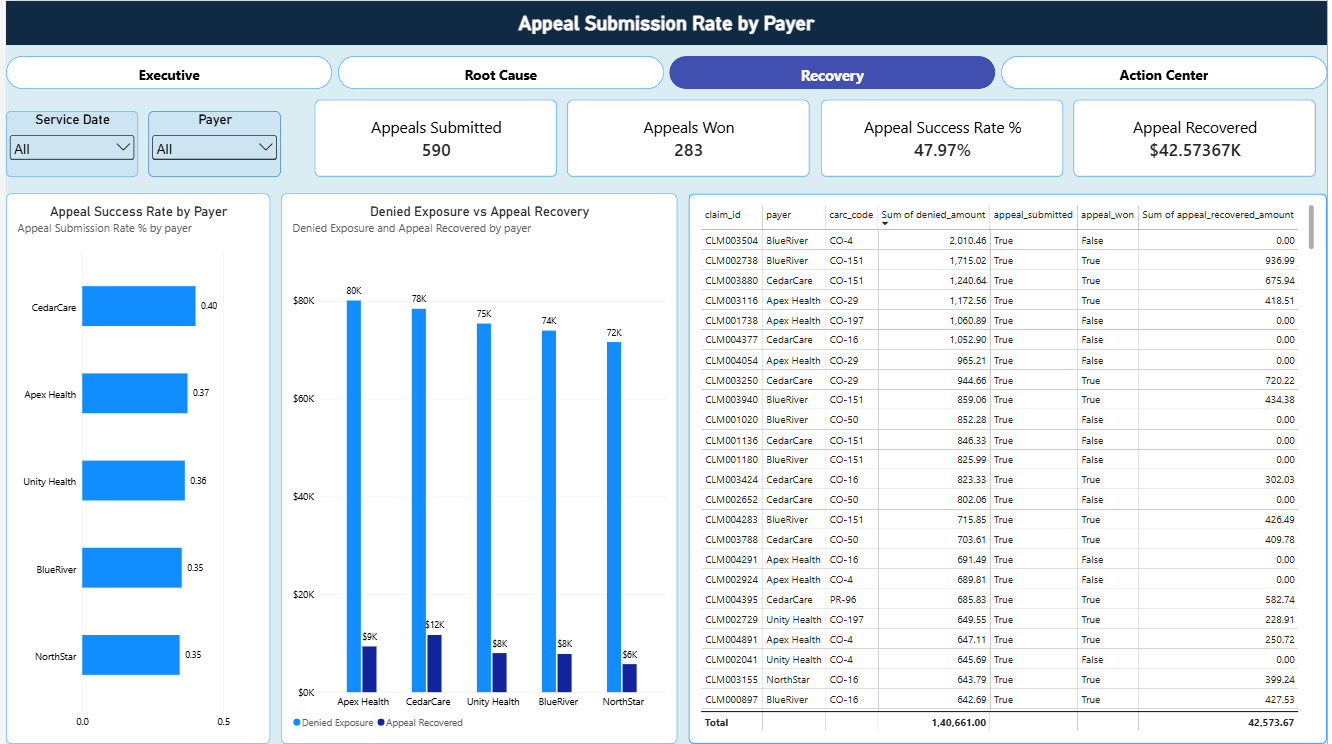

The dashboard page shown, as its layout file describes it:
{"tool":"powerbi","page":{"name":"Recovery","canvas":[1920,1080],"ordinal":2},"visuals":[{"type":"cardVisual","title":"Appeals Submitted","fields":{"Data":["claims_processed.Appeals Submitted"]},"box":[448,144,352,112],"z":0},{"type":"cardVisual","title":"Appeals Submitted","fields":{"Data":["claims_processed.Appeals Won"]},"box":[816,144,352,112],"z":1000},{"type":"cardVisual","title":"Appeals Submitted","fields":{"Data":["claims_processed.Appeal Success Rate %"]},"box":[1184,144,352,112],"z":2000},{"type":"cardVisual","title":"Appeals Submitted","fields":{"Data":["claims_processed.Appeal Recovered"]},"box":[1552,144,352,112],"z":3000},{"type":"clusteredBarChart","title":"Appeal Success Rate by Payer","fields":{"Category":["claims_processed.payer"],"Y":["claims_processed.Appeal Submission Rate %"]},"box":[0,280,384,800],"z":4000},{"type":"clusteredColumnChart","title":"Denied Exposure vs Appeal Recovery","fields":{"Category":["claims_processed.payer"],"Y":["claims_processed.Denied Exposure","claims_processed.Appeal Recovered"]},"box":[400,280,576,800],"z":5000},{"type":"tableEx","fields":{"Values":["claims_processed.claim_id","claims_processed.payer","claims_processed.carc_code","Sum(claims_processed.denied_amount)","claims_processed.appeal_submitted","claims_processed.appeal_won","Sum(claims_processed.appeal_recovered_amount)"]},"box":[992,280,928,800],"z":6000},{"type":"textbox","title":"Appeal Submission Rate by Payer","box":[0,0,1920,64],"z":7000},{"type":"pageNavigator","box":[0,80,1920,48],"z":8000},{"type":"slicer","title":"Service Date","fields":{"Values":["claims_processed.Month Label"]},"box":[0,160,192,96],"z":9000},{"type":"slicer","title":"Payer","fields":{"Values":["claims_processed.payer"]},"box":[208,160,192,96],"z":10000}]}

Visuals, with their boxes in screenshot pixels (x1, y1, x2, y2), scaled from the page's 1920x1080 canvas onto the 1332x744 screenshot:
"Appeals Submitted" cardVisual: 311/99/555/176
"Appeals Submitted" cardVisual: 566/99/810/176
"Appeals Submitted" cardVisual: 821/99/1066/176
"Appeals Submitted" cardVisual: 1077/99/1321/176
"Appeal Success Rate by Payer" clusteredBarChart: 0/193/266/743
"Denied Exposure vs Appeal Recovery" clusteredColumnChart: 278/193/677/743
tableEx - claims_processed.claim_id x claims_processed.payer: 688/193/1331/743
"Appeal Submission Rate by Payer" textbox: 0/0/1331/44
pageNavigator: 0/55/1331/88
"Service Date" slicer: 0/110/133/176
"Payer" slicer: 144/110/278/176
